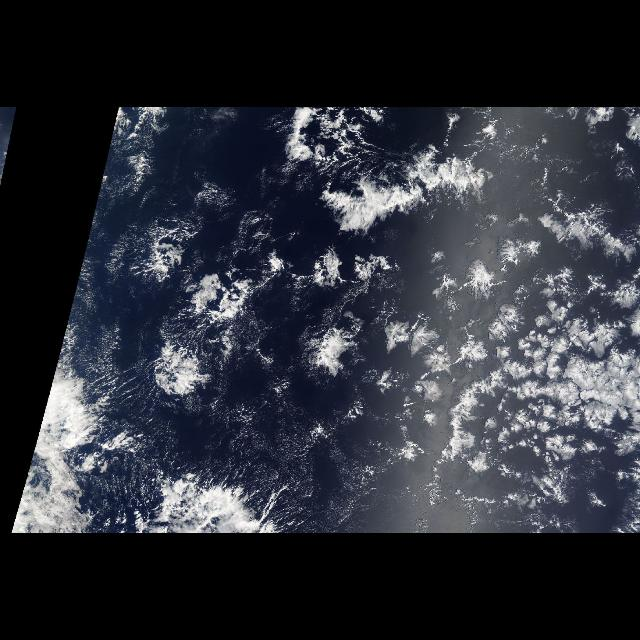Fish: (322, 148, 500, 240)
Flower: (128, 224, 640, 512)
